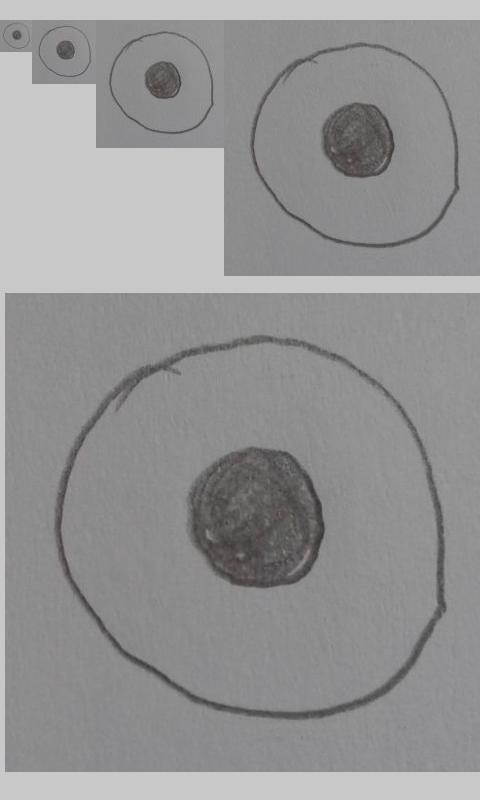radio_button: (54, 334, 446, 722), (247, 40, 462, 251), (109, 31, 214, 134), (38, 25, 93, 78), (2, 22, 31, 49)
